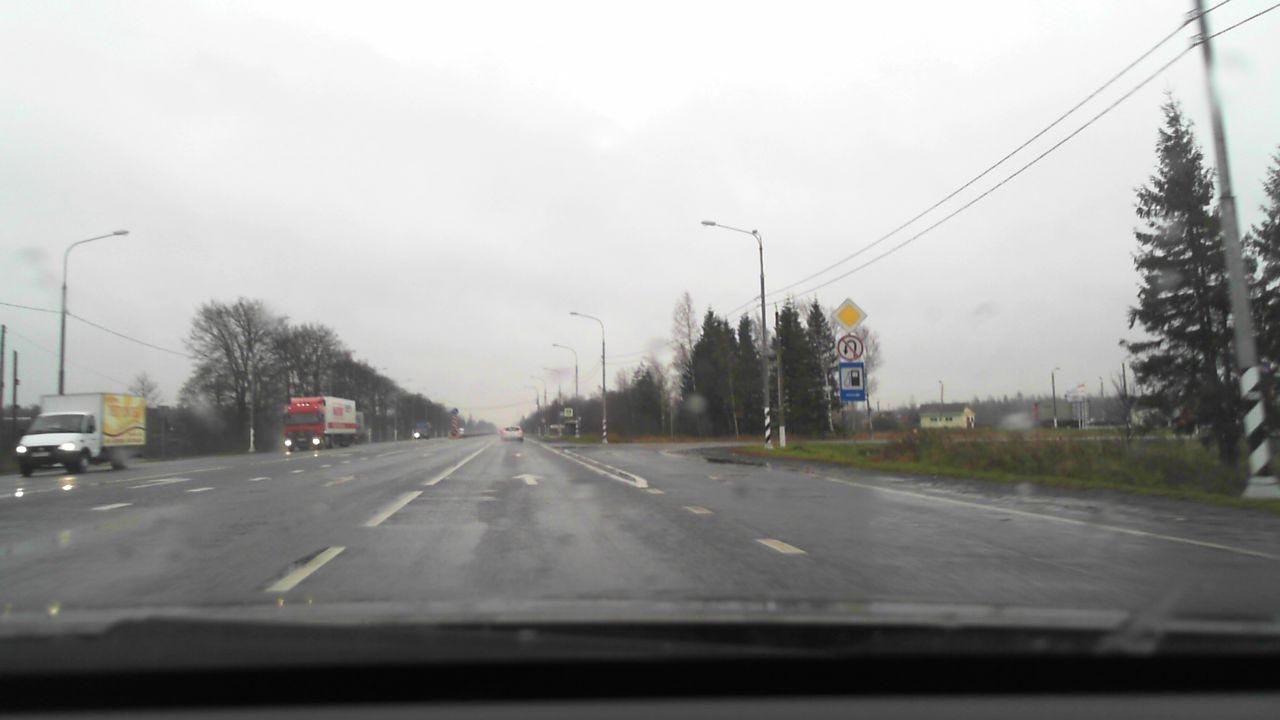2_1: (828, 295, 867, 331)
3_19: (838, 335, 863, 361)
7_3: (839, 365, 865, 399)
